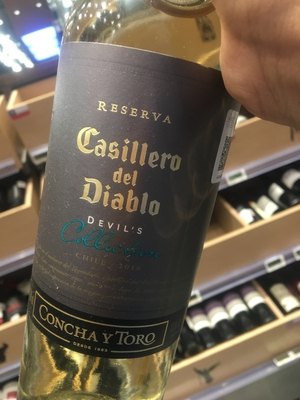casillero del diablo devils collection verde: (27, 6, 239, 400)
